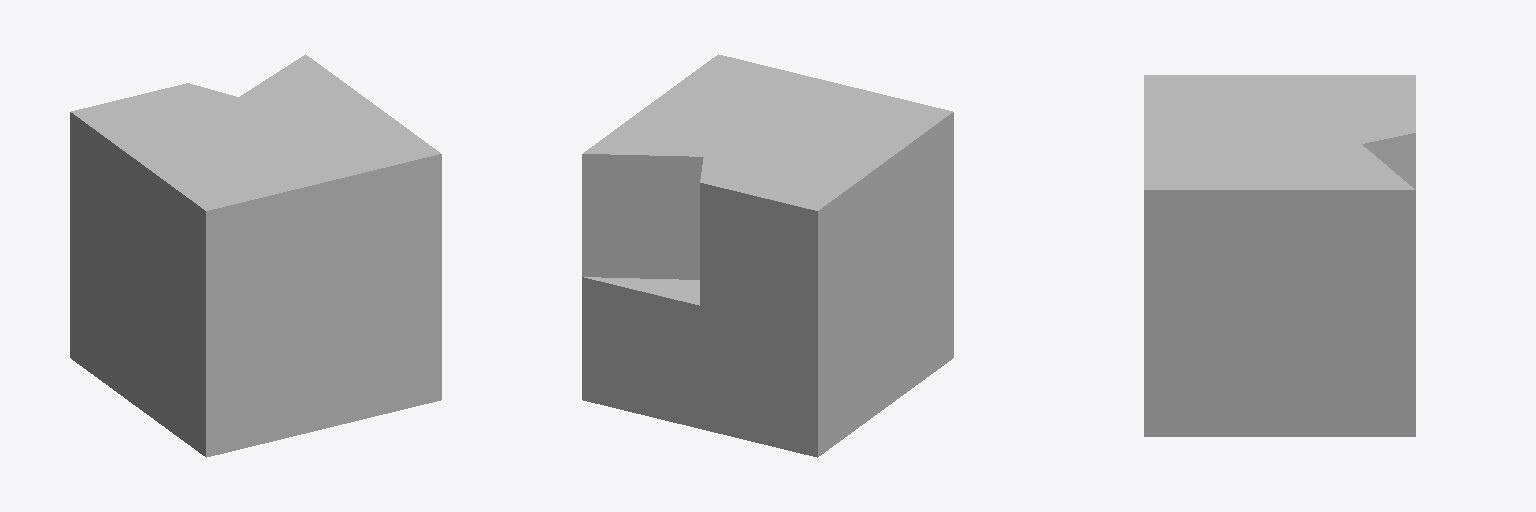
Rendered from c8raC.obj.
3 views of the same model, side by side, from view 1: azimuth 30°, elevation 25°; view 2: azimuth 150°, elevation 25°; view 3: azimuth 270°, elevation 25° (orthographic).
Size of the model in its own units: 1 by 1 by 1.